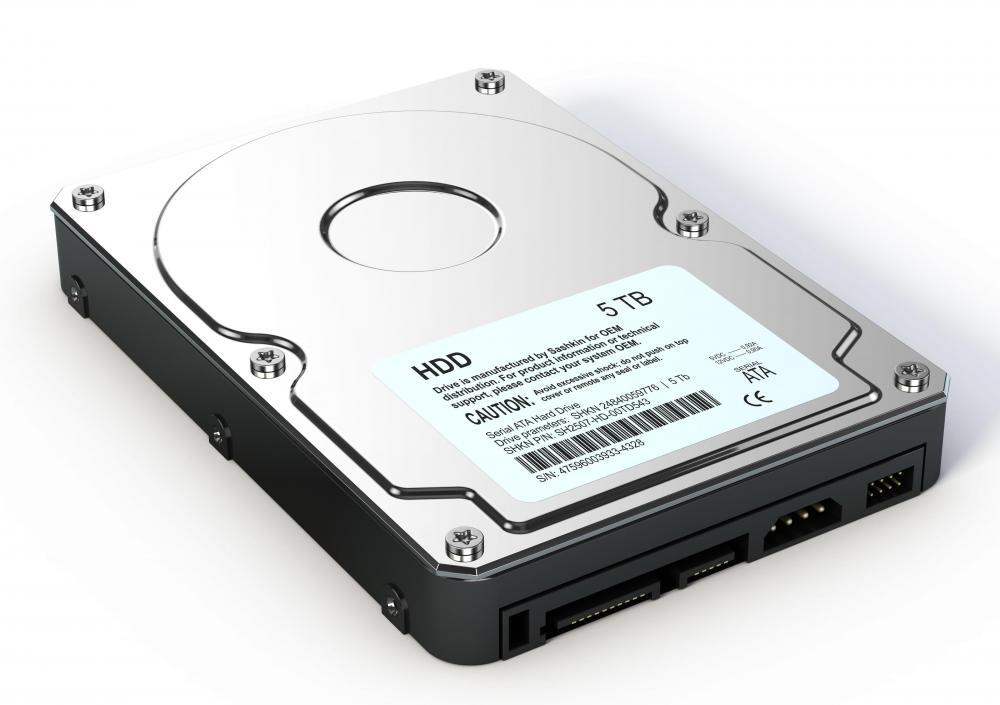internal HDD: (47, 67, 952, 670)
